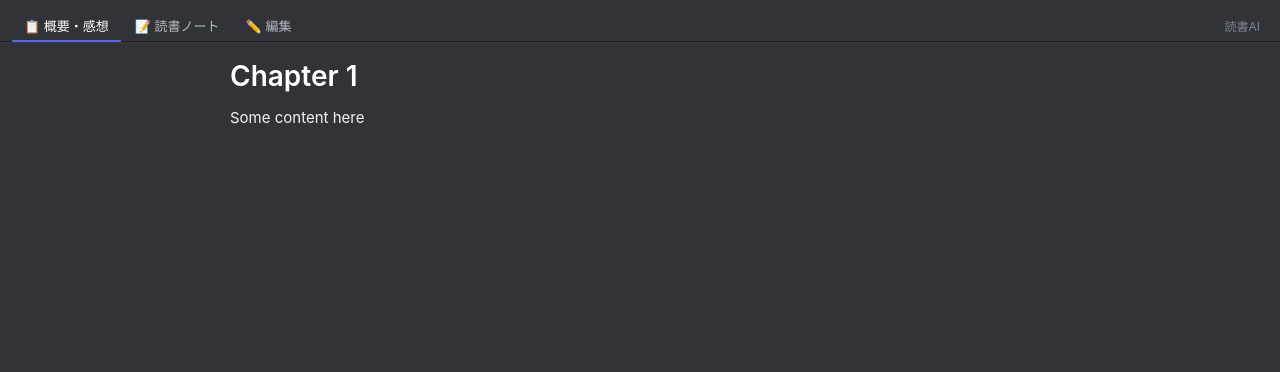
Test: BookViewer › does not append empty note
Click the button "📝 読書ノート" at [177, 26], box [123,12,232,41]
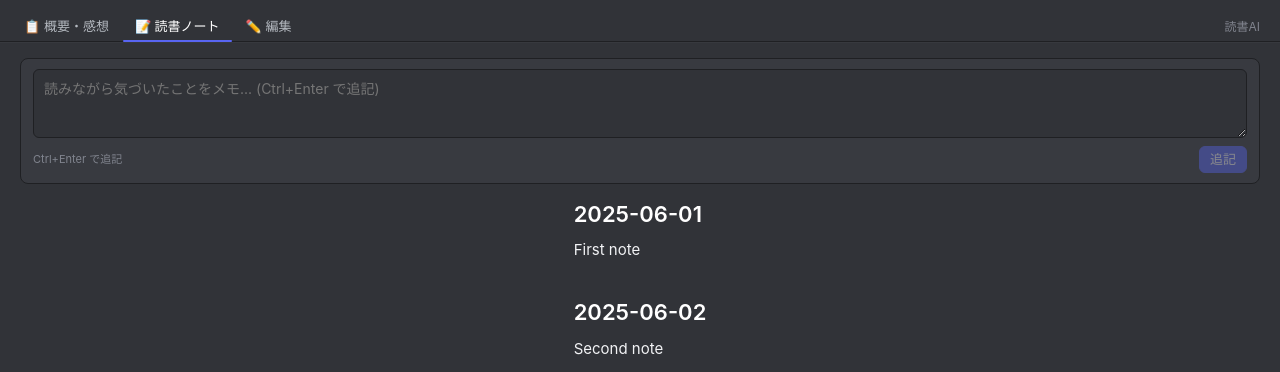
expect the button "追記" is disabled: met, box [1199,146,1247,173]
